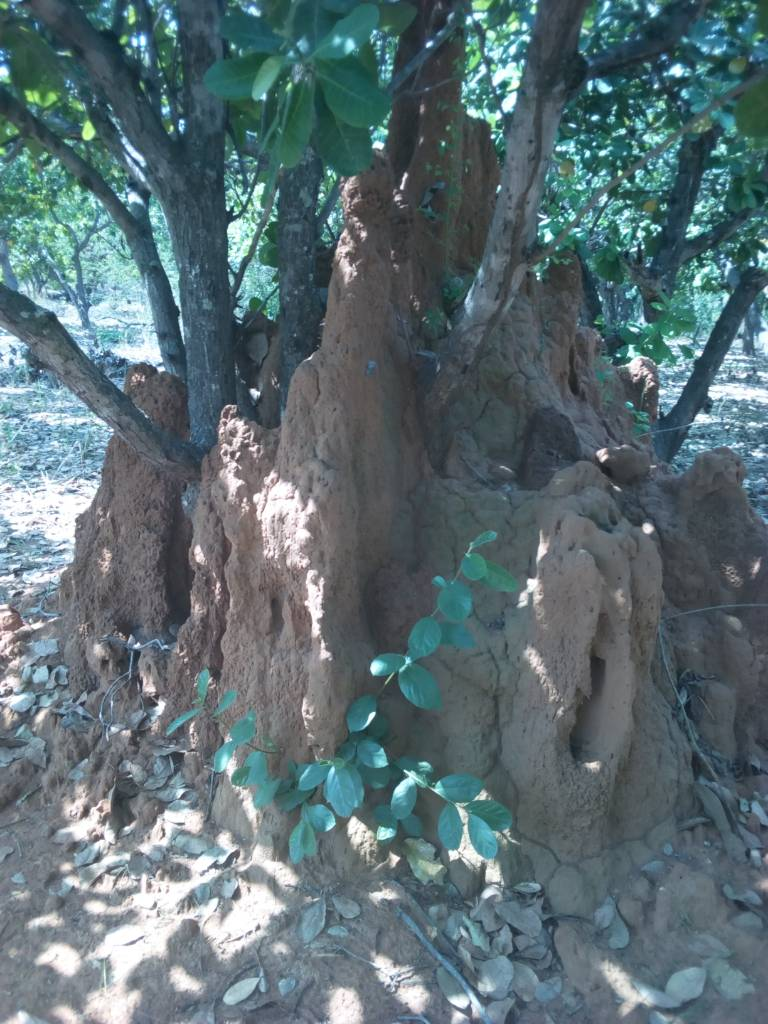Termites: (197, 186, 402, 769), (510, 475, 674, 880), (71, 477, 160, 669)
